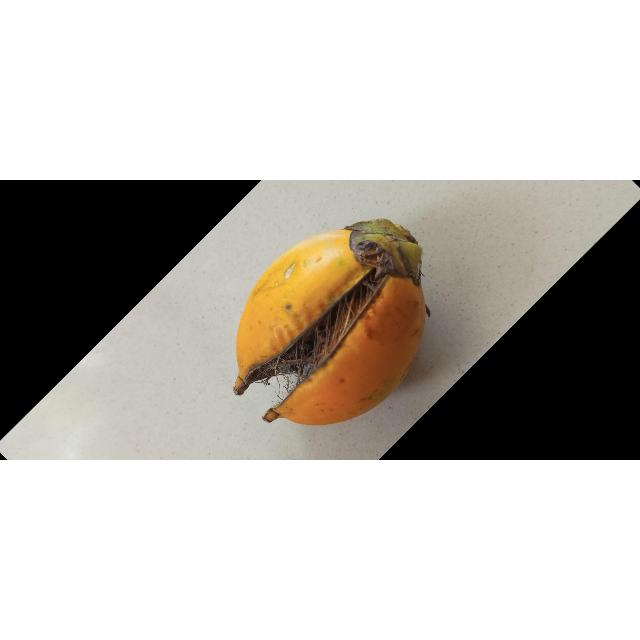damaged: (233, 219, 430, 426)
